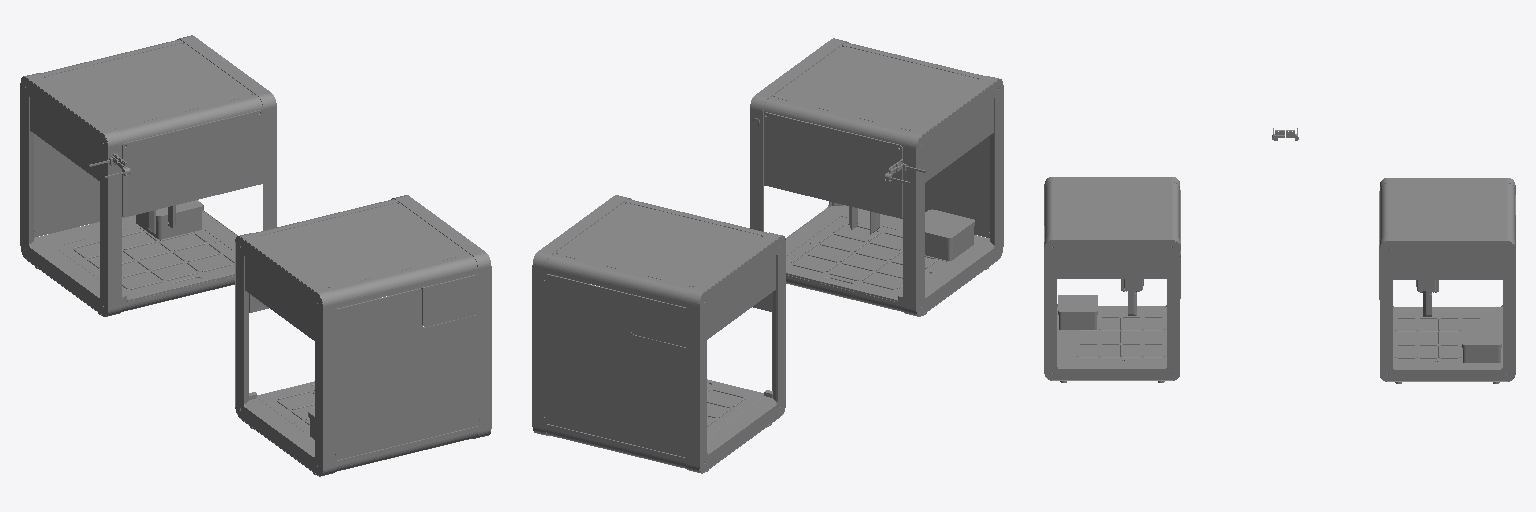
URDF robot description (PCR Workcell):
<robot name="PCR Workcell">

  <!-- Materials -->

  <material name="white">
    <color rgba="1 1 1 1"/>
  </material>

  <material name="blue">
    <color rgba="0 0 0.8 1"/>
  </material>

  <material name="dark_blue">
    <color rgba="0.011764705882352941 0.027450980392156862 0.29215686274509803 1.0"/>
  </material>

  <material name="darkbluegrey" >
    <color rgba="0.12156862745098039 0.23137254901960785 0.30196078431372547 1.0" />
  </material>
  
  <material name="darkbluegreen" >
    <color rgba="0.0 0.3215686274509804 0.28627450980392155 1.0" />
  </material>

  <material name="aluminum">
    <color rgba="0.6 0.6 0.6 1"/>
  </material>

  <!-- Links -->

  <link name="OT2">
    <visual>
      <origin xyz="0.36 0.94 1.01" rpy="1.5708 0 0"/>
      <geometry>
        <mesh filename="package://pf400_description/meshes/OT2.STL" scale="0.001 0.001 0.001"/>
      </geometry>
      <material name="aluminum"/>
    </visual>
  </link>

  <link name="OT2_2">
    <visual>
      <origin xyz="0.975 -1.02 1.01" rpy="1.5708 0 3.1416"/>
      <geometry>
        <mesh filename="package://pf400_description/meshes/OT2.STL" scale="0.001 0.001 0.001"/>
      </geometry>
      <material name="aluminum"/>
    </visual>
  </link>

  <link name="module_cart_link_1">
    <visual>
      <origin xyz="1.32 0.847 0" rpy="0 0 0"/>
      <geometry>
        <mesh filename="package://pf400_description/meshes/module_cart.stl" scale="1 1 1"/>
      </geometry>
      <material name="dark_blue"/>
    </visual>
  </link>

  <link name="module_cart_link_2">
    <visual>
      <origin xyz="0.51 0.847 0" rpy="0 0 0"/>
      <geometry>
        <mesh filename="package://pf400_description/meshes/module_cart.stl" scale="1 1 1"/>
      </geometry>
      <material name="dark_blue"/>
    </visual>
  </link>

  <link name="module_cart_link_3">
    <visual>
      <origin xyz="-0.368 0.847 0" rpy="0 0 0"/>
      <geometry>
        <mesh filename="package://pf400_description/meshes/module_cart.stl" scale="1 1 1"/>
      </geometry>
      <material name="dark_blue"/>
    </visual>
  </link>

  <link name="module_cart_link_4">
    <visual>
      <origin xyz="-1.18 0.847 0" rpy="0 0 0"/>
      <geometry>
        <mesh filename="package://pf400_description/meshes/module_cart.stl" scale="1 1 1"/>
      </geometry>
      <material name="dark_blue"/>
    </visual>
  </link>

  <link name="module_cart_link_5">
    <visual>
      <origin xyz="1.32  -0.548 0" rpy="0 0 0"/>
      <geometry>
        <mesh filename="package://pf400_description/meshes/module_cart.stl" scale="1 1 1"/>
      </geometry>
      <material name="dark_blue"/>
    </visual>
  </link>
  
  <link name="module_cart_link_6">
    <visual>
      <origin xyz="0.51 -0.548 0" rpy="0 0 0"/>
      <geometry>
        <mesh filename="package://pf400_description/meshes/module_cart.stl" scale="1 1 1"/>
      </geometry>
      <material name="dark_blue"/>
    </visual>
  </link>

  <link name="module_cart_link_7">
    <visual>
      <origin xyz="-0.368 -0.548 0" rpy="0 0 0"/>
      <geometry>
        <mesh filename="package://pf400_description/meshes/module_cart.stl" scale="1 1 1"/>
      </geometry>
      <material name="dark_blue"/>
    </visual>
  </link>

  <link name="module_cart_link_8">
    <visual>
      <origin xyz="-1.18 -0.548 0" rpy="0 0 0"/>
      <geometry>
        <mesh filename="package://pf400_description/meshes/module_cart.stl" scale="1 1 1"/>
      </geometry>
      <material name="dark_blue"/>
    </visual>
  </link>

  <link name="pf400_module">
    <visual>
      <origin xyz="-1.63 2.347 -1.11" rpy="1.5708 0 0"/>
      <geometry>
        <mesh filename="package://pf400_description/meshes/PF400_module.STL" scale="0.001 0.001 0.001"/>
      </geometry>
      <material name="dark_blue"/>
    </visual>
  </link>

  <link name="rail_base">
    <visual>
      <origin xyz="0.125 -0.0198 1.015" rpy="0 0 1.5708"/>
      <geometry>
        <mesh filename="package://pf400_description/meshes/rail_base.STL" scale="1 1 1"/>
      </geometry>
      <material name="white"/>
    </visual>
  </link>

  <link name="rail">
    <visual>
      <origin xyz="0.1309 -0.0198 1.047" rpy="1.5708 0 1.5708"/>
      <geometry>
        <mesh filename="package://pf400_description/meshes/rail.STL" scale="1 1 1"/>
      </geometry>
      <material name="white"/>
    </visual>
  </link>

  <link name="z_column">
    <visual>
      <origin xyz="0 0 1.089" rpy="0 0 0"/>
      <geometry>
        <mesh filename="package://pf400_description/meshes/PF400_Z_Column.STL" scale="0.001 0.001 0.00132"/>
      </geometry>
      <material name="white"/>
    </visual>
  </link>

  <link name="z_carriage">
    <visual>
      <origin xyz="0 0 1.089" rpy="0 0 0"/>
      <geometry>
        <mesh filename="package://pf400_description/meshes/PF400_Z_Carriage.STL" scale="0.001 0.001 0.001"/>
      </geometry>
      <material name="white"/>
    </visual>
  </link>

  <link name="inner_link">
    <visual>
      <origin xyz="0 0 1.089" rpy="0 0 0"/>
      <geometry>
        <mesh filename="package://pf400_description/meshes/PF400_Inner_Link.STL" scale="0.001 0.001 0.001"/>
      </geometry>
      <material name="white"/>
    </visual>
  </link>

  <link name="outer_link">
    <visual>
      <origin xyz="0 0 1.089" rpy="0 0 0"/>
      <geometry>
        <mesh filename="package://pf400_description/meshes/PF400_Outer_Link.STL" scale="0.001 0.001 0.001"/>
      </geometry>
      <material name="white"/>
    </visual>
  </link>

  <link name="hand">
    <visual>
      <origin xyz="0 0 1.089" rpy="0 0 0"/>
      <geometry>
        <mesh filename="package://pf400_description/meshes/PF400_Hand.STL" scale="0.001 0.001 0.001"/>
      </geometry>
      <material name="white"/>
    </visual>
  </link>

  <link name="left_finger">
    <visual>
      <origin xyz="-0.02 -0.053 1.0685" rpy="0 0 0"/>
      <geometry>
        <mesh filename="package://pf400_description/meshes/pf400_left_finger.STL" scale="0.001 0.001 0.001"/>
      </geometry>
      <material name="aluminum"/>
    </visual>
  </link>

  <link name="right_finger">
    <visual>
      <origin xyz="-0.021 -0.028 1.12" rpy="-1.5708 0 0"/>
      <geometry>
        <mesh filename="package://pf400_description/meshes/pf400_right_finger.STL" scale="0.001 0.001 0.001"/>
      </geometry>
      <material name="aluminum"/>
    </visual>
  </link>



  <!-- Joints -->

  <joint name="J1" type="prismatic">
    <parent link="z_column"/>
    <child link="z_carriage"/>
    <axis xyz="0 0 1"/>
    <origin xyz="0.03005 -0.0198 0.17535" rpy="0 0 0"/>
    <limit effort="1000.0" lower="0.002" upper="1.160" velocity="0.5"/>  </joint>

  <joint name="J2" type="revolute">
    <parent link="z_carriage"/>
    <child link="inner_link"/>
    <axis xyz="0 0 1"/>
    <origin xyz="0.173001 0.020 0.0235" rpy="0 0 0"/>
    <limit effort="1000.0" lower="-1.62316" upper="1.62316" velocity="0.5"/>
  </joint>

  <joint name="J3" type="revolute">
    <parent link="inner_link"/>
    <child link="outer_link"/>
    <axis xyz="0 0 1"/>
    <origin xyz="0.302 0 -0.072285" rpy="0 0 0"/>
    <limit effort="1000.0" lower="0.175" upper="6.1" velocity="0.5"/>
  </joint>

  <joint name="J4" type="revolute">
    <parent link="outer_link"/>
    <child link="hand"/>
    <axis xyz="0 0 1"/>
    <origin xyz="0.289 0 -0.032942" rpy="0 0 0"/>
    <limit effort="1000.0" lower="-16.7552" upper="16.7552" velocity="0.5"/>
  </joint>

  <joint name="J5" type="prismatic">
    <parent link="hand"/>
    <child link="left_finger"/>
    <axis xyz="0 1 0"/>
    <origin xyz="0.078573 0 -0.04269" rpy="0 0 0"/>
    <limit effort="1000.0" lower="0.04" upper="0.0675" velocity="0.5"/>
  </joint>

  <joint name="J5_mirror" type="prismatic">
    <parent link="hand"/>
    <child link="right_finger"/>
    <axis xyz="0 -1 0"/>
    <origin xyz="0.078573 0 -0.04269" rpy="0 0 0"/>
    <limit effort="1000.0" lower="0.04" upper="0.0675" velocity="0.5"/>
    <mimic joint="J5" multiplier="1"/>
  </joint>

  <joint name="J6" type="prismatic">
    <parent link="rail_base"/>
    <child link="rail"/>
    <axis xyz="1 0 0"/>
    <origin xyz="0 0 0" rpy="0 0 0"/>
    <limit effort="1000.0" lower="-1" upper="1" velocity="0.5"/>
  </joint>

  <joint name="rail_link" type="fixed">
    <parent link="rail"/>
    <child link="z_column"/>
    <axis xyz="0 1 0"/>
    <origin xyz="0.03005 -0.0198 0.05" rpy="0 0 0"/>
    <limit effort="1000.0" lower="0" upper="0" velocity="0.5"/>
  </joint>

  <joint name="module_table" type="fixed">
    <parent link="pf400_module"/>
    <child link="rail_base"/>
    <axis xyz="0 0 1"/>
    <origin xyz="0 0 0" rpy="0 0 0"/>
    <limit effort="1000.0" lower="0" upper="0" velocity="0.5"/>
  </joint>

  <joint name="module_cart_link_1" type="fixed">
    <parent link="module_cart_link_1"/>
    <child link="pf400_module"/>
    <axis xyz="0 0 1"/>
    <origin xyz="0 0 0" rpy="0 0 0"/>
    <limit effort="1000.0" lower="0" upper="0" velocity="0.5"/>
  </joint>
  
  <joint name="module_cart_link_2" type="fixed">
    <parent link="module_cart_link_2"/>
    <child link="module_cart_link_1"/>
    <axis xyz="0 0 1"/>
    <origin xyz="0 0 0" rpy="0 0 0"/>
    <limit effort="1000.0" lower="0" upper="0" velocity="0.5"/>
  </joint>

  <joint name="module_cart_link_3" type="fixed">
    <parent link="module_cart_link_3"/>
    <child link="module_cart_link_2"/>
    <axis xyz="0 0 1"/>
    <origin xyz="0 0 0" rpy="0 0 0"/>
    <limit effort="1000.0" lower="0" upper="0" velocity="0.5"/>
  </joint>

  <joint name="module_cart_link_4" type="fixed">
    <parent link="module_cart_link_4"/>
    <child link="module_cart_link_3"/>
    <axis xyz="0 0 1"/>
    <origin xyz="0 0 0" rpy="0 0 0"/>
    <limit effort="1000.0" lower="0" upper="0" velocity="0.5"/>
  </joint>

  <joint name="module_cart_link_5" type="fixed">
    <parent link="module_cart_link_5"/>
    <child link="module_cart_link_4"/>
    <axis xyz="0 0 1"/>
    <origin xyz="0 0 0" rpy="0 0 0"/>
    <limit effort="1000.0" lower="0" upper="0" velocity="0.5"/>
  </joint>

  <joint name="module_cart_link_6" type="fixed">
    <parent link="module_cart_link_6"/>
    <child link="module_cart_link_5"/>
    <axis xyz="0 0 1"/>
    <origin xyz="0 0 0" rpy="0 0 0"/>
    <limit effort="1000.0" lower="0" upper="0" velocity="0.5"/>
  </joint>

  <joint name="module_cart_link_7" type="fixed">
    <parent link="module_cart_link_7"/>
    <child link="module_cart_link_6"/>
    <axis xyz="0 0 1"/>
    <origin xyz="0 0 0" rpy="0 0 0"/>
    <limit effort="1000.0" lower="0" upper="0" velocity="0.5"/>
  </joint>

  <joint name="module_cart_link_8" type="fixed">
    <parent link="module_cart_link_8"/>
    <child link="module_cart_link_7"/>
    <axis xyz="0 0 1"/>
    <origin xyz="0 0 0" rpy="0 0 0"/>
    <limit effort="1000.0" lower="0" upper="0" velocity="0.5"/>
  </joint>

  <joint name="OT2" type="fixed">
    <parent link="module_cart_link_2"/>
    <child link="OT2"/>
    <axis xyz="0 0 1"/>
    <origin xyz="0 0 0" rpy="0 0 0"/>
    <limit effort="1000.0" lower="0" upper="0" velocity="0.5"/>
  </joint>

  <joint name="OT2_2" type="fixed">
    <parent link="OT2"/>
    <child link="OT2_2"/>
    <axis xyz="0 0 1"/>
    <origin xyz="0 0 0" rpy="0 0 0"/>
    <limit effort="1000.0" lower="0" upper="0" velocity="0.5"/>
  </joint>

</robot>

--- Render facts (derived) ---
The picture shows the robot from 3 angles, left to right: view 1: azimuth 30°, elevation 25°; view 2: azimuth 150°, elevation 25°; view 3: azimuth 270°, elevation 25°; orthographic projection.
Model PCR Workcell with 20 links and 19 joints (3 revolute, 4 prismatic, 12 fixed), rooted at module_cart_link_8, posed all joints at 0 but 4 set to mid-range because 0 is outside their limits (J1 = 0.581, J3 = 3.14, J5 = 0.0537, J5_mirror = 0.0537).
Links seen in each view (by area): view 1: OT2, OT2_2; view 2: OT2_2, OT2; view 3: OT2_2, OT2.
Boxes of the visible links, left/top/right/bottom form: OT2: left=20, top=35, right=276, bottom=316; OT2_2: left=235, top=195, right=491, bottom=476; OT2_2: left=750, top=38, right=1003, bottom=316; OT2: left=532, top=195, right=785, bottom=473; OT2_2: left=1044, top=177, right=1180, bottom=382; OT2: left=1379, top=178, right=1515, bottom=383.
Size in the robot's own frame: 0.8929 by 1.96 by 0.7917 metres.
Meshes: 12 distinct files referenced, 4 mesh visuals loaded (3 binary STL); not drawn: 10 (reference not matched to a file when rendering), 6 (file found but could not be loaded).